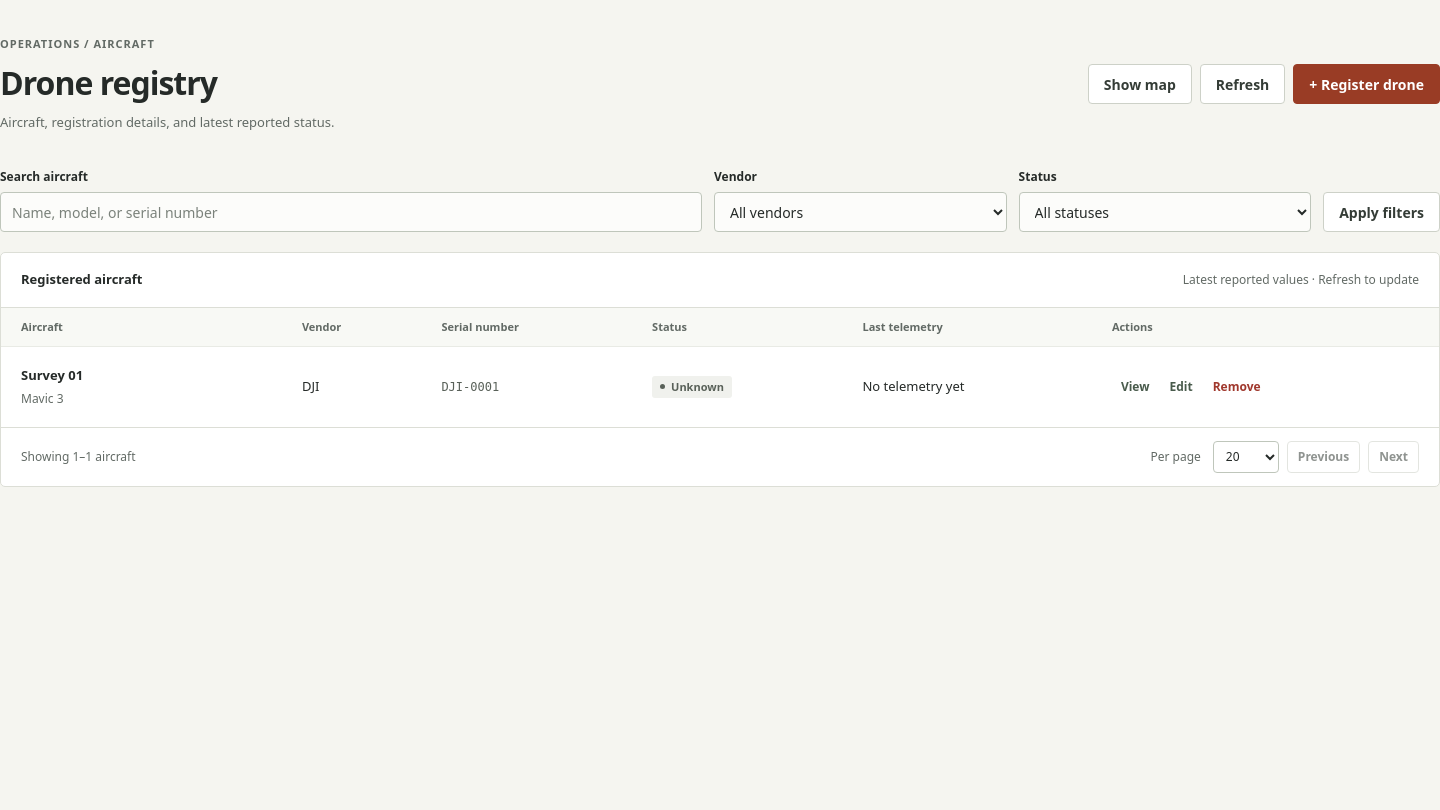
Test: drone registry › loads fresh details and sends only changed metadata on edit
Expected: the text "Survey 01" is shown, [21,366,83,384]
Click the button with aria-label "Edit Survey 01": coordinates (1181, 387) [1160,370,1202,404]
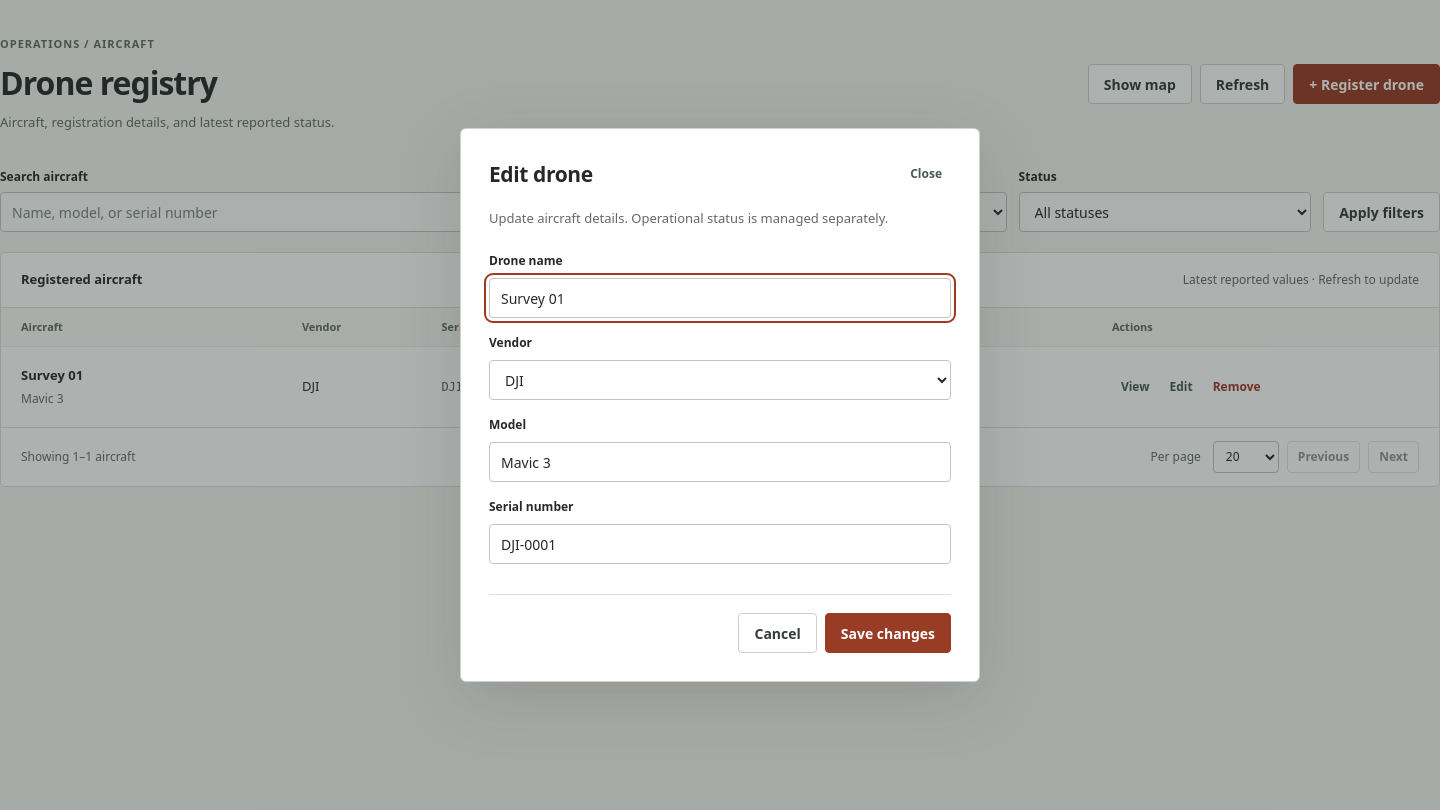
Replace the text in the field labelled "Drone name" with "Renamed": coordinates (720, 298) [489,278,951,318]
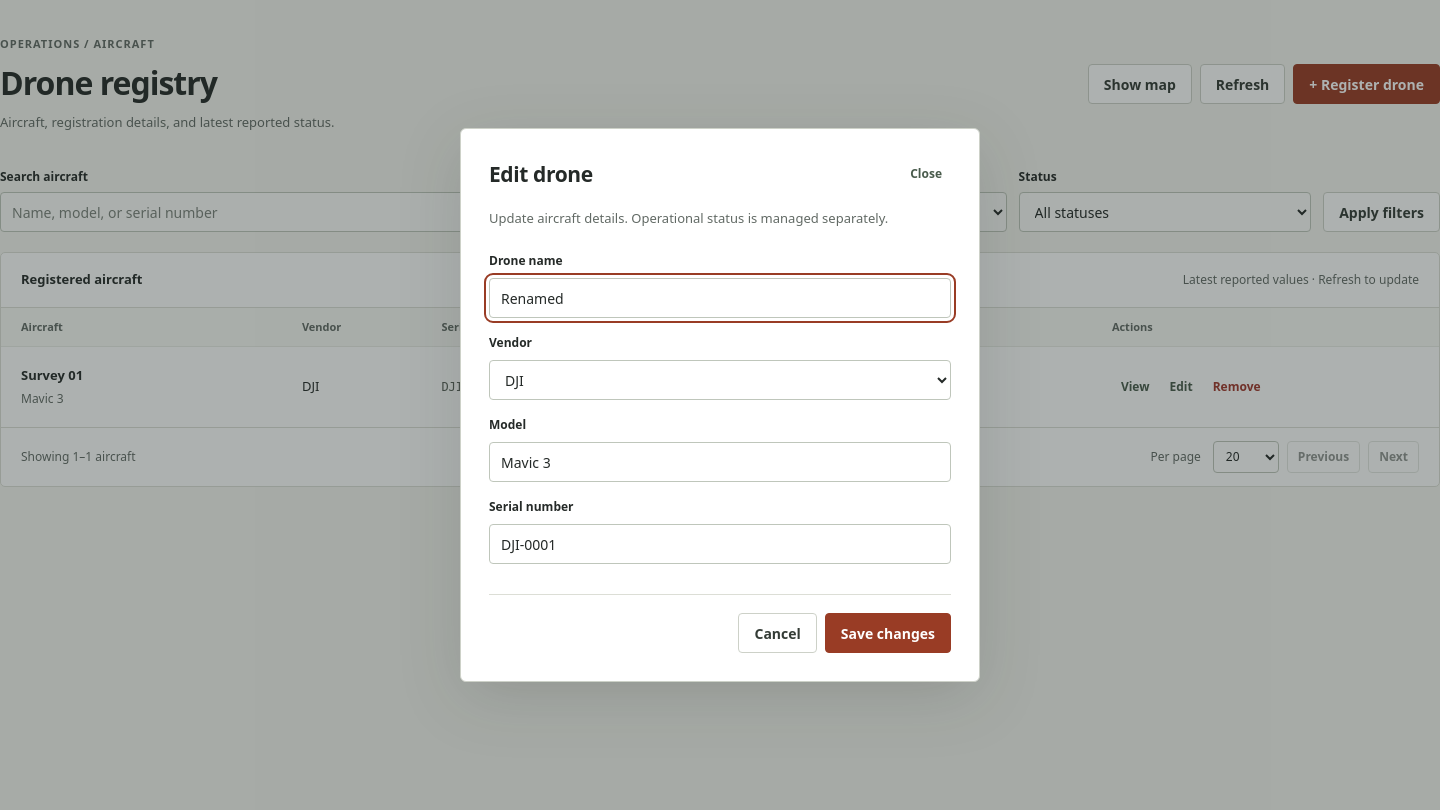
Click the button "Save changes": coordinates (888, 633) [825,613,951,653]
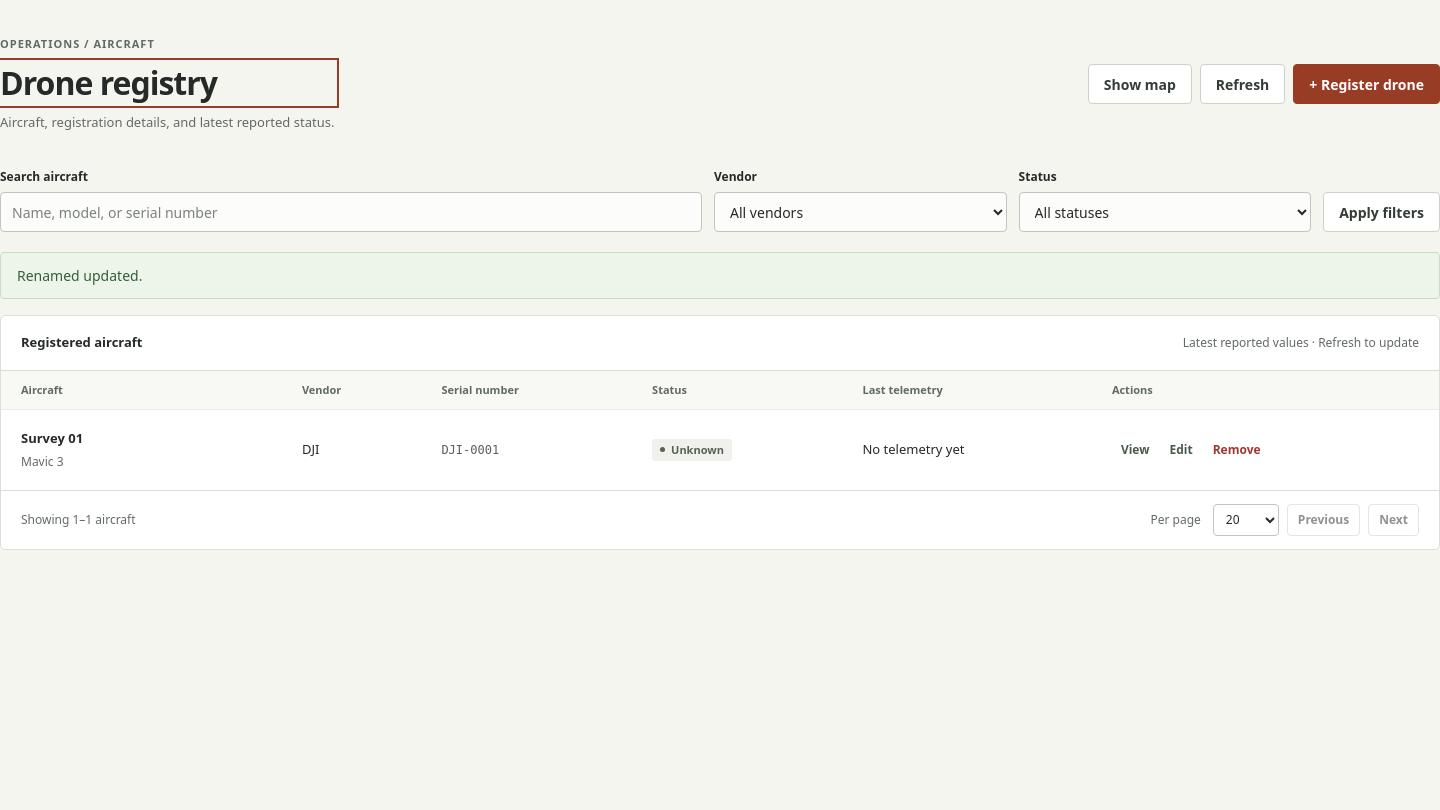
Expected: the text "Renamed updated." is shown, [0,252,1439,299]
